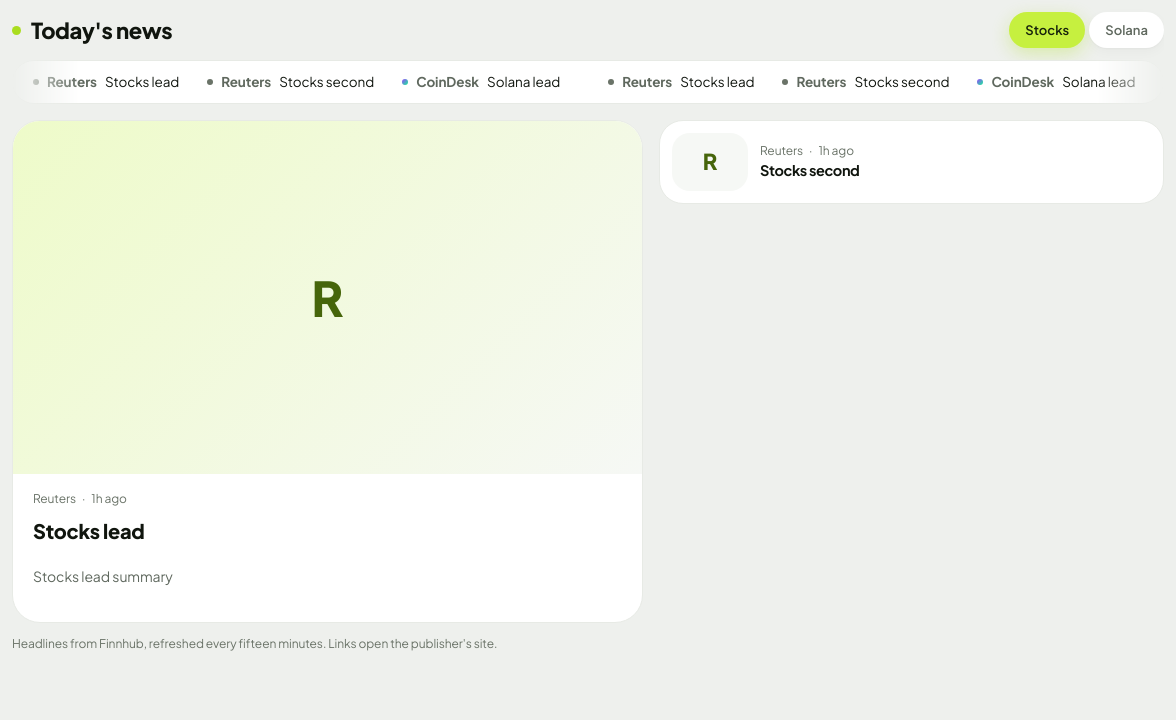
Test: NewsSection › leads with stocks and switches to Solana
Expected: the heading "Stocks lead" is shown, [33,518,144,543]
Click the tab "Solana".
click(1127, 30)  # box [1089,12,1164,48]
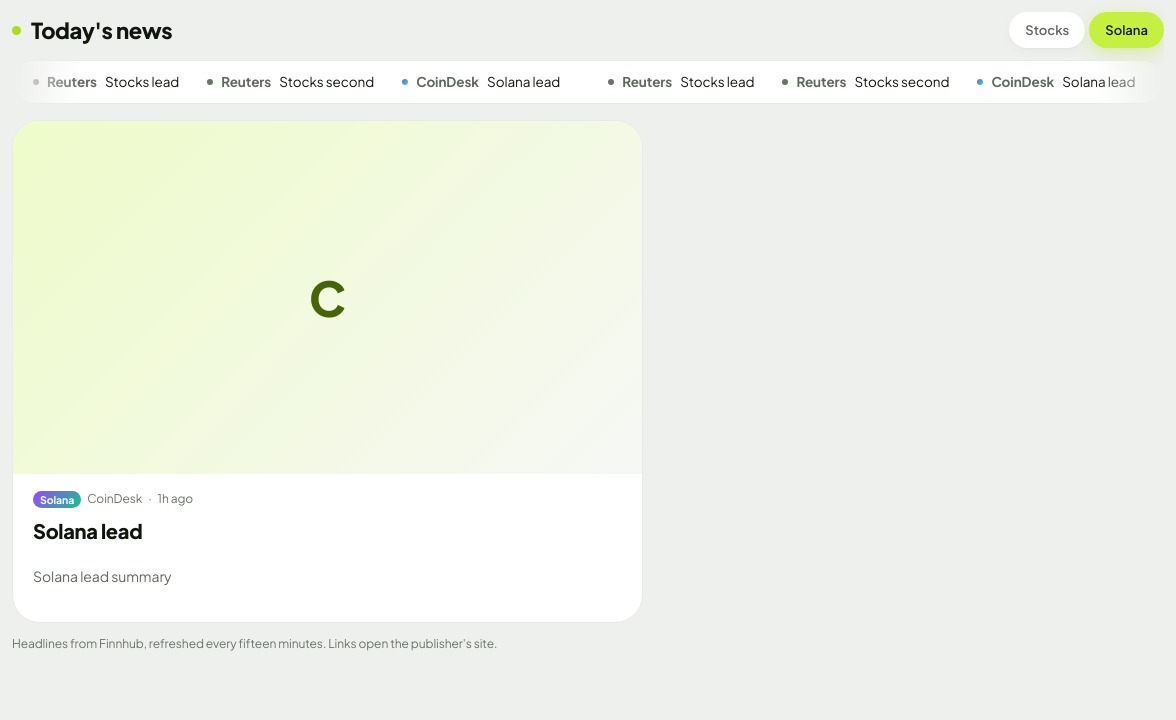
Now the heading "Solana lead" is shown, box [33,518,142,543]
